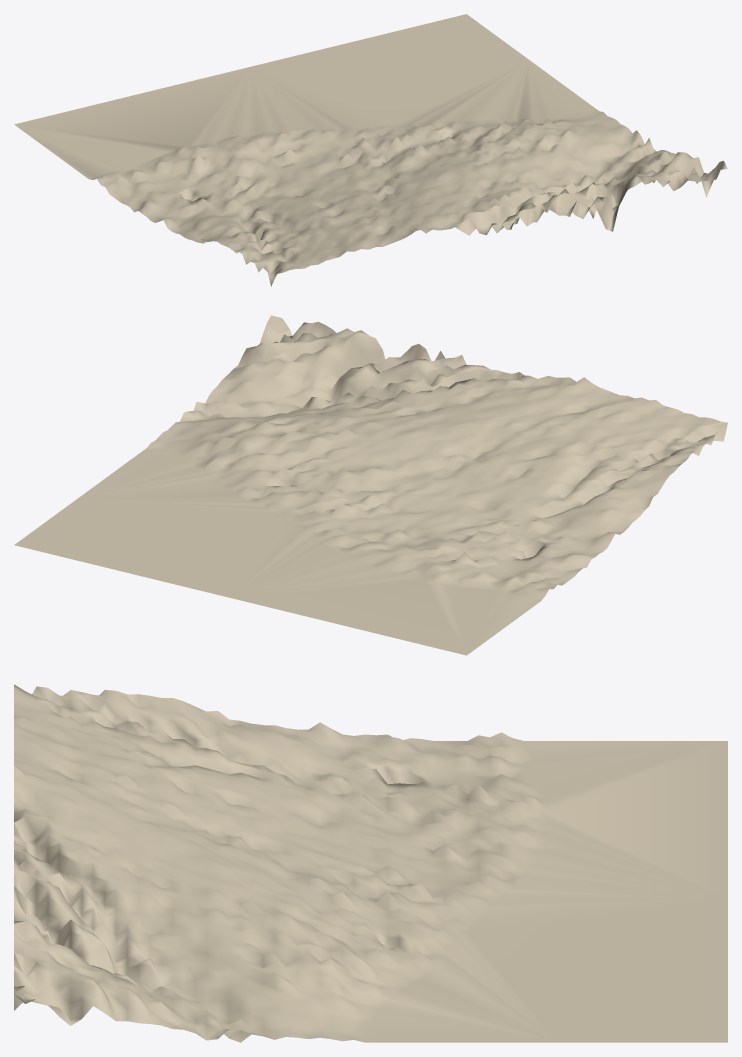
The model's file is lencois-lo.glb.
3 views of the same model, one above another, from view 1: azimuth 30°, elevation 25°; view 2: azimuth 150°, elevation 25°; view 3: azimuth 270°, elevation 25° (orthographic). The views are drawn at different scales.
Size of the model in its own units: 3600 by 604 by 3600.
